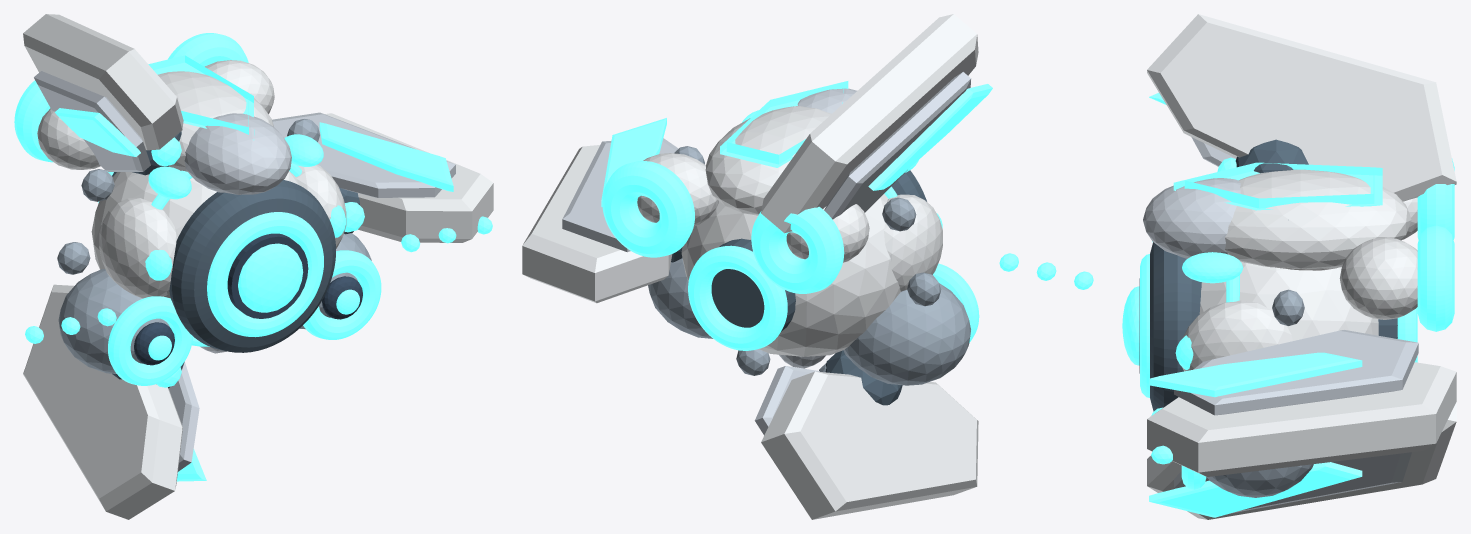
The model's file is drone_common.glb.
3 views of the same model, side by side, from view 1: azimuth 30°, elevation 25°; view 2: azimuth 150°, elevation 25°; view 3: azimuth 270°, elevation 25° (orthographic). The views are drawn at different scales.
Parts seen in each view (by area): view 1: compact_tri_wing_primary_037, front_reactor_bearing_003, compact_tri_wing_primary_032, dorsal_crest_045, compact_tri_wing_primary_027, emission_ring_004, outer_panel_021, ventral_support_pod_047, compact_tri_wing_metal_ridge_028, lateral_sensor_ring_048, compact_tri_wing_energy_track_029, compact_tri_wing_metal_ridge_033 (+22 smaller); view 2: compact_tri_wing_primary_037, compact_tri_wing_primary_032, central_reactor_hull_001, compact_tri_wing_primary_027, ventral_support_pod_047, side_propulsion_ring_059, dorsal_armor_back_044, side_propulsion_ring_052, aft_thruster_emission_026, compact_tri_wing_metal_ridge_033, outer_panel_021, compact_tri_wing_metal_ridge_028 (+14 smaller); view 3: compact_tri_wing_primary_032, compact_tri_wing_primary_027, dorsal_armor_back_044, compact_tri_wing_metal_ridge_028, central_reactor_hull_001, dorsal_crest_045, upper_thruster_armor_058, front_reactor_bearing_003, compact_tri_wing_energy_track_029, outer_panel_023, compact_tri_wing_energy_track_039, top_data_spine_046 (+14 smaller).
Boxes of the visible parts, x1,y1,x2,y2 form: compact_tri_wing_primary_037: (23, 284, 182, 519); front_reactor_bearing_003: (169, 180, 335, 352); compact_tri_wing_primary_032: (23, 14, 183, 150); dorsal_crest_045: (184, 113, 291, 194); compact_tri_wing_primary_027: (325, 113, 493, 242); emission_ring_004: (207, 212, 323, 337); outer_panel_021: (99, 198, 178, 298); ventral_support_pod_047: (58, 269, 169, 373); compact_tri_wing_metal_ridge_028: (272, 112, 455, 197); lateral_sensor_ring_048: (108, 296, 193, 385); compact_tri_wing_energy_track_029: (319, 122, 453, 191); compact_tri_wing_metal_ridge_033: (34, 71, 150, 171); compact_tri_wing_primary_037: (761, 371, 978, 519); compact_tri_wing_primary_032: (761, 14, 978, 233); central_reactor_hull_001: (681, 194, 900, 356); compact_tri_wing_primary_027: (522, 145, 672, 303); ventral_support_pod_047: (843, 283, 970, 385); side_propulsion_ring_059: (602, 161, 694, 257); dorsal_armor_back_044: (705, 106, 831, 215); side_propulsion_ring_052: (751, 206, 844, 293); aft_thruster_emission_026: (688, 245, 787, 350); compact_tri_wing_metal_ridge_033: (824, 72, 971, 219); outer_panel_021: (884, 194, 942, 291); compact_tri_wing_metal_ridge_028: (562, 138, 678, 252); compact_tri_wing_primary_032: (1147, 14, 1456, 201); compact_tri_wing_primary_027: (1147, 362, 1456, 476); dorsal_armor_back_044: (1225, 169, 1411, 269); compact_tri_wing_metal_ridge_028: (1174, 330, 1418, 415); central_reactor_hull_001: (1199, 261, 1378, 340); dorsal_crest_045: (1143, 178, 1240, 258); upper_thruster_armor_058: (1339, 237, 1417, 319); front_reactor_bearing_003: (1150, 242, 1201, 411); compact_tri_wing_energy_track_029: (1149, 352, 1362, 397); outer_panel_023: (1182, 300, 1292, 371); compact_tri_wing_energy_track_039: (1149, 462, 1362, 517); top_data_spine_046: (1173, 162, 1382, 210).
Size of the model in its own units: 2.93 by 2.71 by 1.63.
